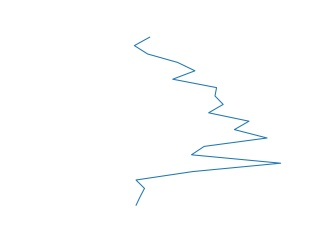floodSwamp: (127, 35, 283, 208)
